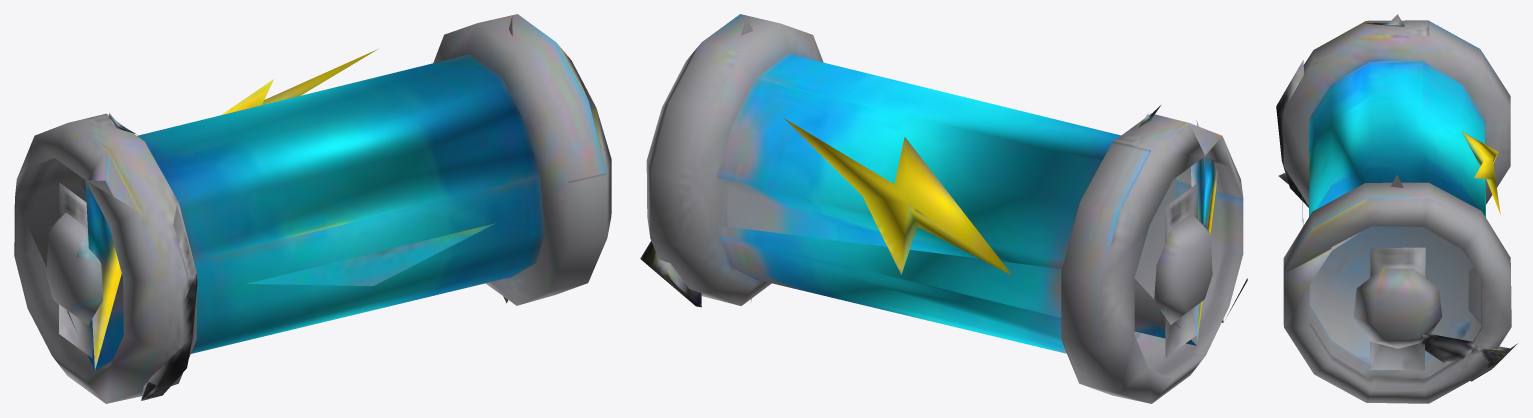
The model's file is turbo-BJl4J1kX.glb.
3 renders of one model, left to right at view 1: azimuth 30°, elevation 25°; view 2: azimuth 150°, elevation 25°; view 3: azimuth 270°, elevation 25°, orthographic. The views are drawn at different scales.
Bounding box in the file's own units: 1 × 0.5487 × 0.5173.
Materials: 1 (1 with a texture image).
